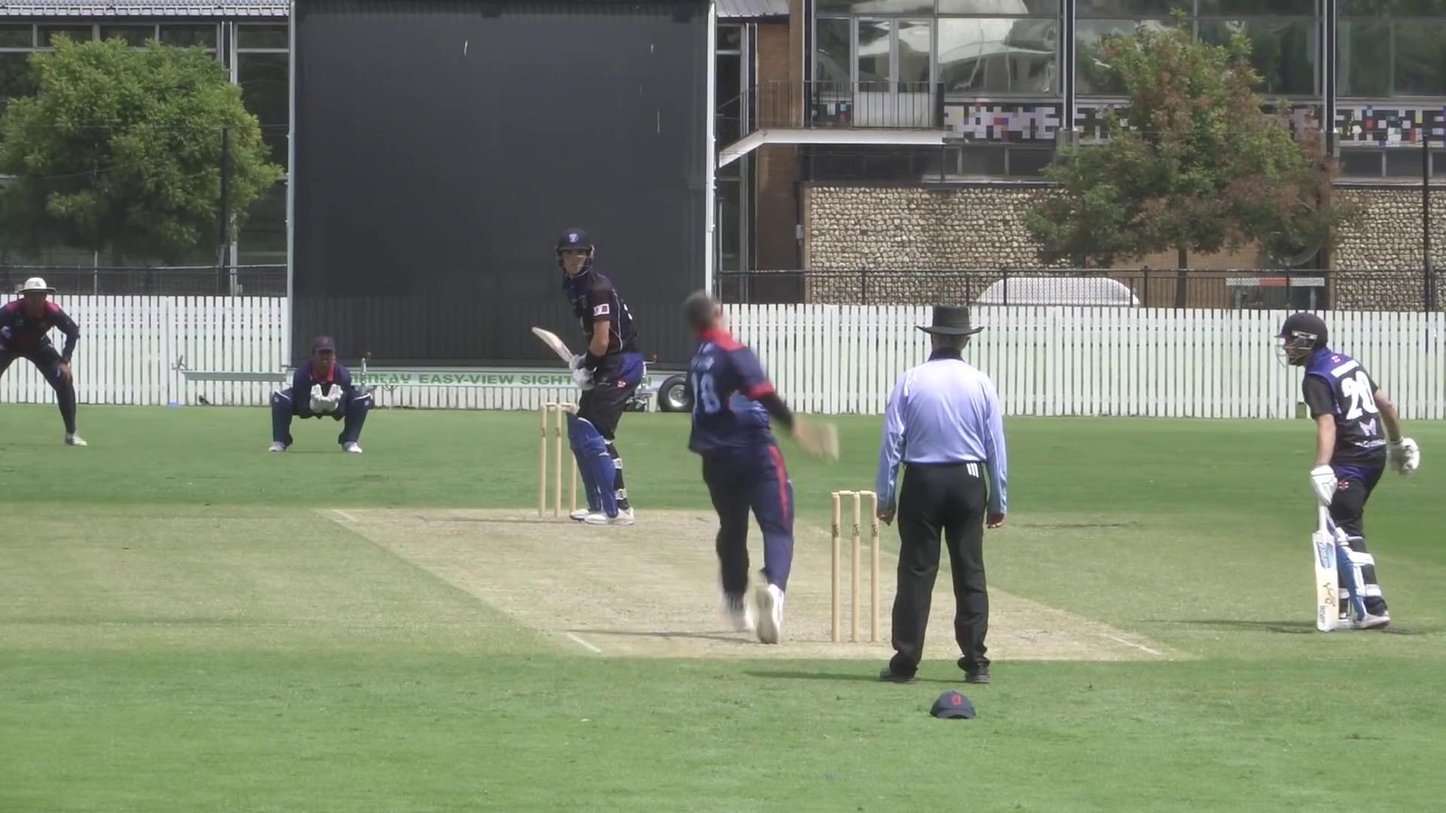ball: (816, 428, 841, 466)
